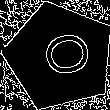O_W: (29, 29, 90, 83)
